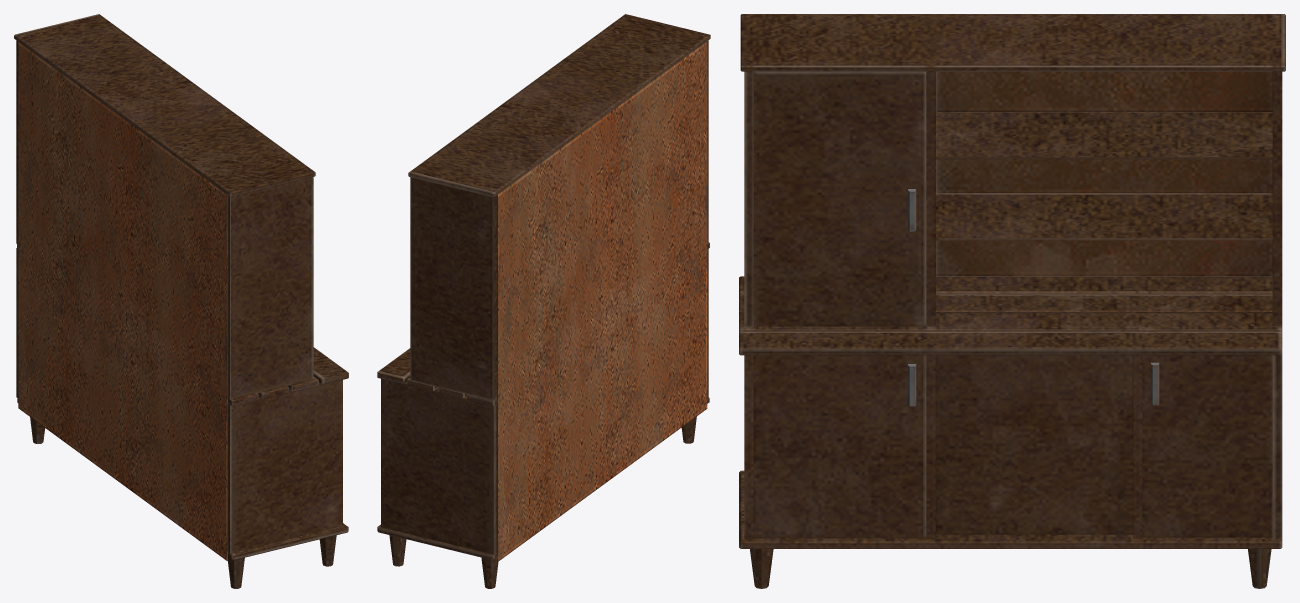
Rendered from servant_ps1.glb.
3 renders of one model, left to right at view 1: azimuth 30°, elevation 25°; view 2: azimuth 150°, elevation 25°; view 3: azimuth 270°, elevation 25°, orthographic. The views are drawn at different scales.
Parts seen in each view (by area): view 1: servant; view 2: servant; view 3: servant.
Boxes of the visible parts, x1,y1,x2,y2 form: servant: (14, 14, 348, 588); servant: (377, 14, 710, 588); servant: (739, 14, 1285, 588).
Size of the model in its own units: 2.83 by 9.2 by 8.98.
1 material, 1 textured.
